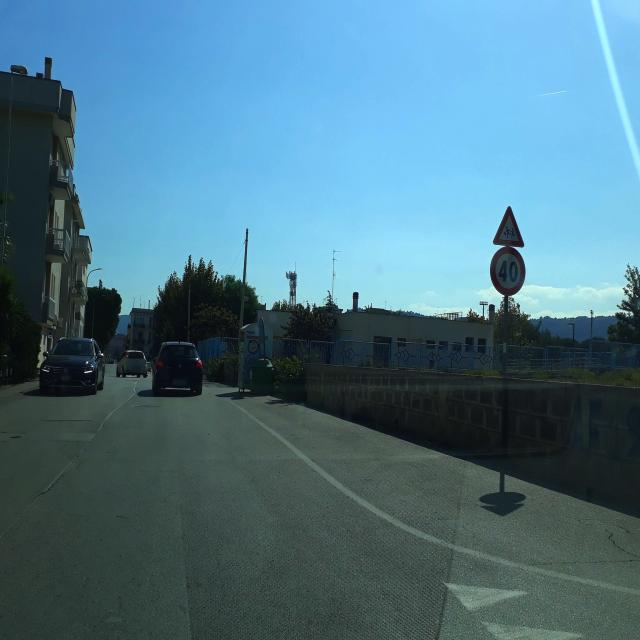car: (39, 336, 104, 396), (152, 340, 203, 397), (120, 349, 148, 378)
